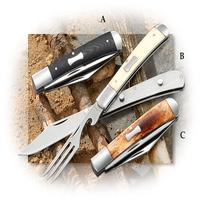knife: (14, 24, 170, 176)
